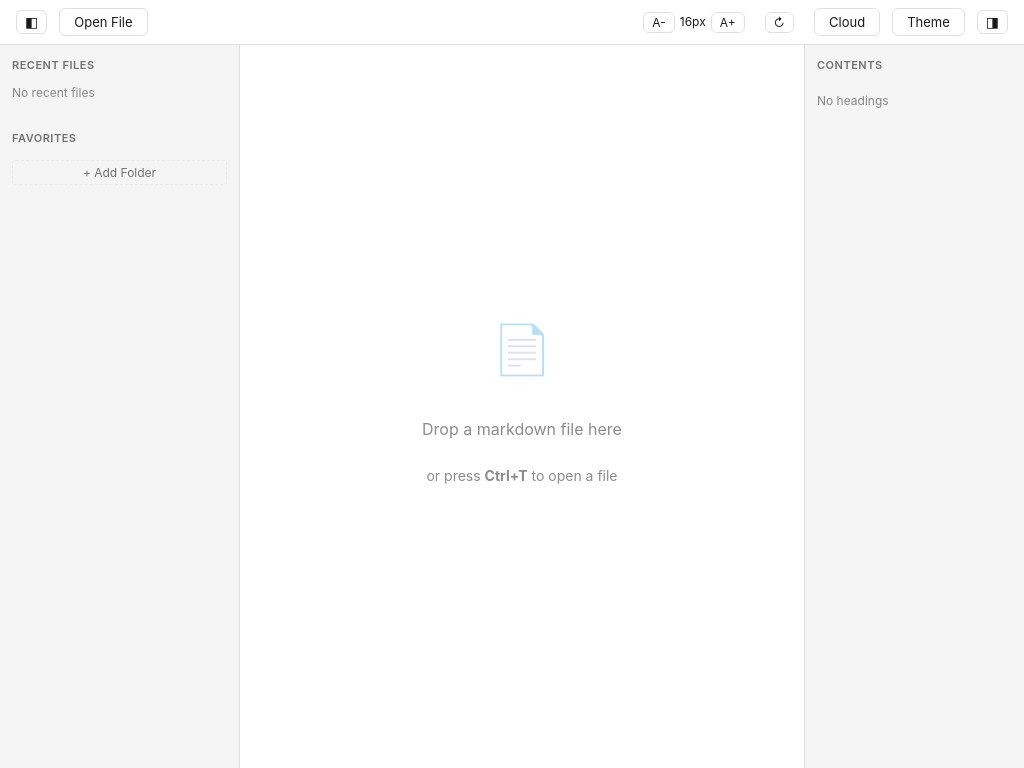
Test case: App › toggles left sidebar visibility
This screenshot has width=1024, height=768.
Expected: the element with class "sidebar-left" is shown, x1=0 y1=45 x2=240 y2=767
Click the button titled "Toggle left sidebar": (32, 22) x1=16 y1=10 x2=47 y2=34
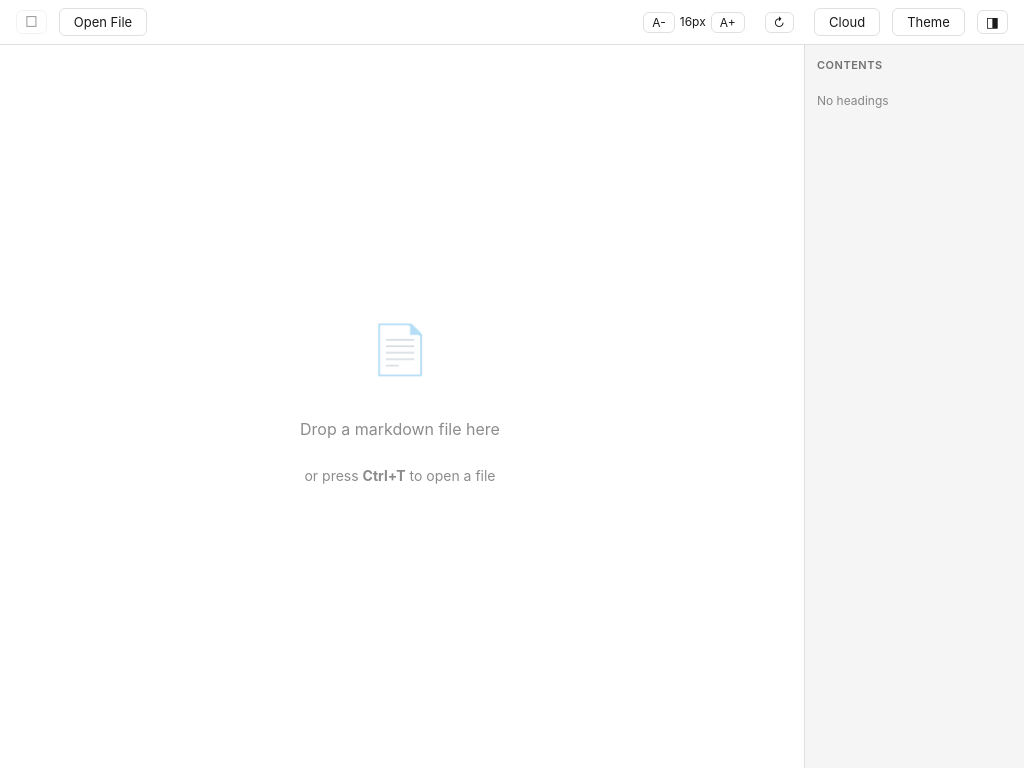
Expected: the element with class "sidebar-left" is gone
Click the button titled "Toggle left sidebar": (31, 22) x1=16 y1=10 x2=47 y2=34
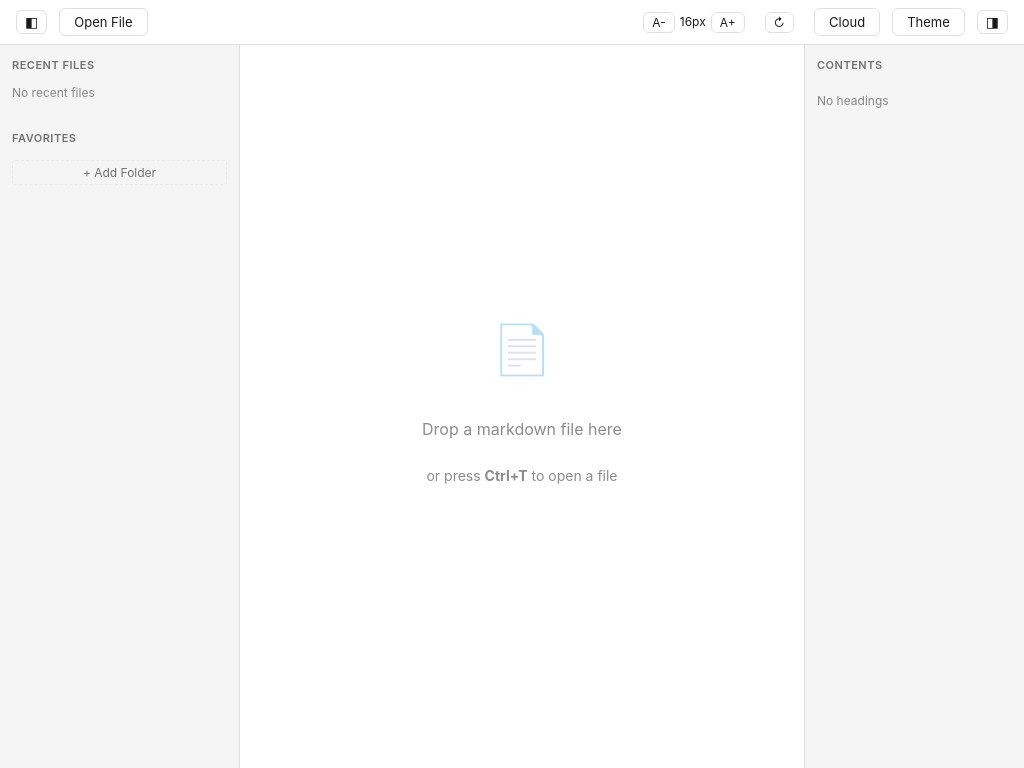
Expected: the element with class "sidebar-left" is shown, x1=0 y1=45 x2=240 y2=767
